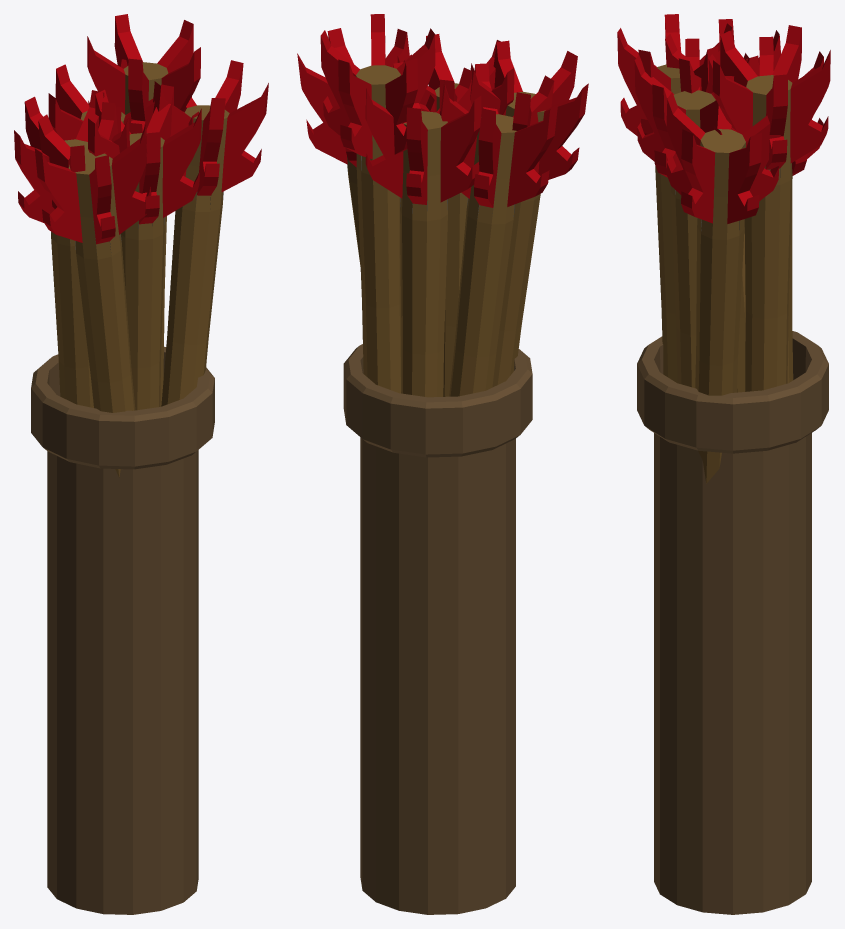
Rendered from ArrowQuiver.fbx.
3 renders of one model, left to right at view 1: azimuth 30°, elevation 25°; view 2: azimuth 150°, elevation 25°; view 3: azimuth 270°, elevation 25°, orthographic. The views are drawn at different scales.
Parts seen in each view (by area): view 1: Arrow quiver; view 2: Arrow quiver; view 3: Arrow quiver.
Boxes of the visible parts, x1=… form: Arrow quiver: x1=14, y1=14, x2=268, y2=914; Arrow quiver: x1=297, y1=14, x2=588, y2=914; Arrow quiver: x1=617, y1=14, x2=830, y2=914.
Size of the model in its own units: 22.73 by 73.56 by 16.66.
